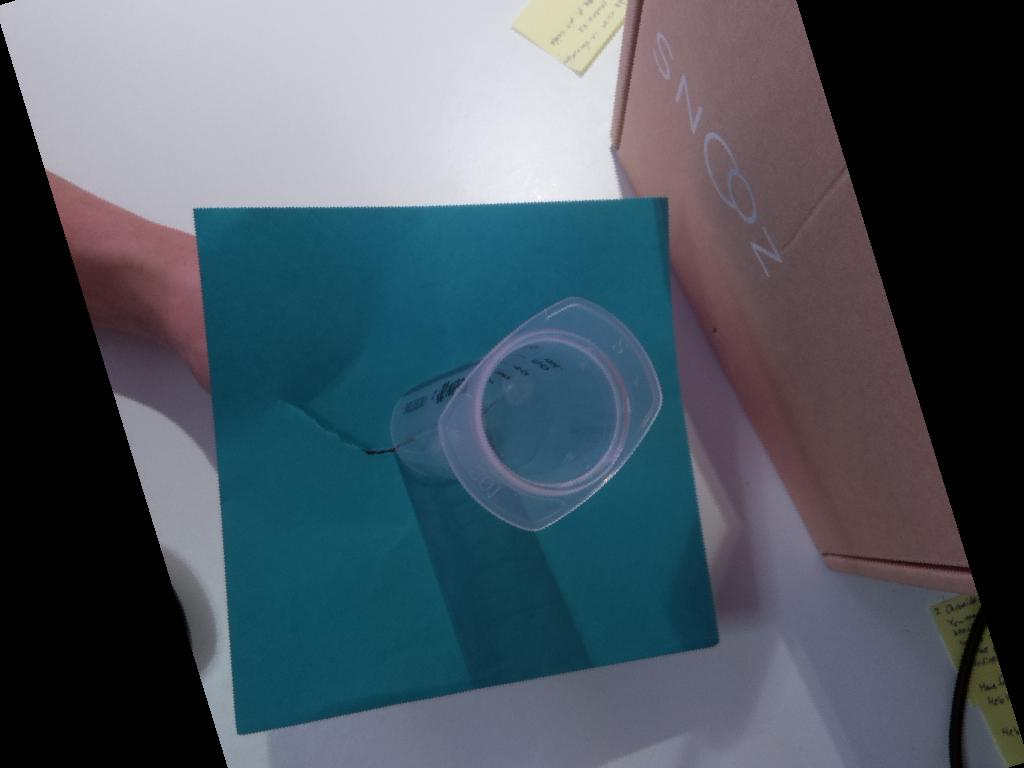clean: (438, 293, 663, 532)
